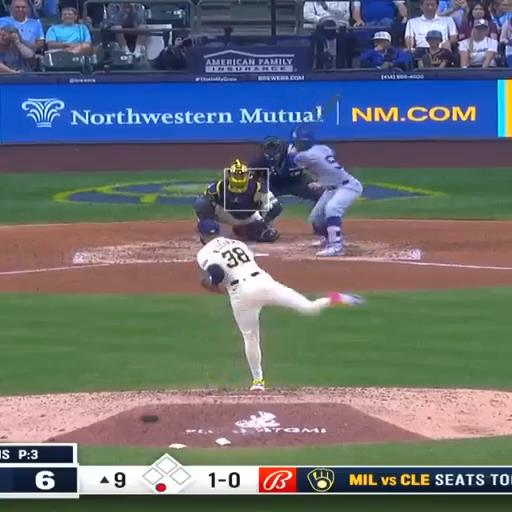bat: (294, 94, 340, 131)
